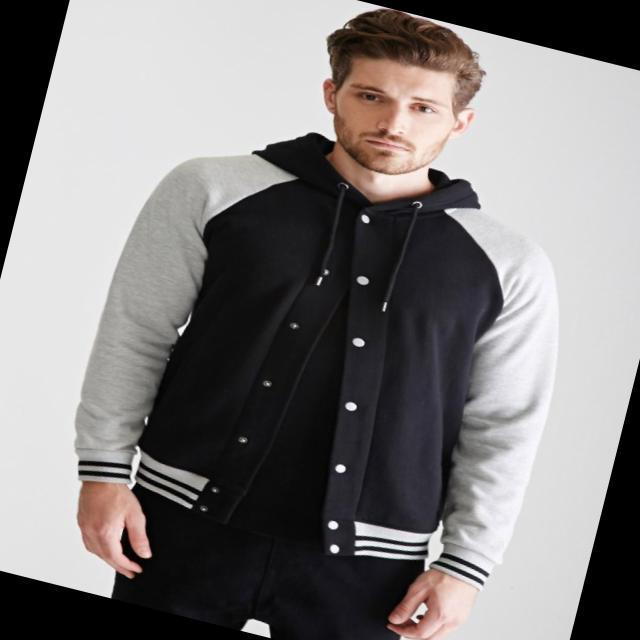sweater: (74, 130, 562, 594)
